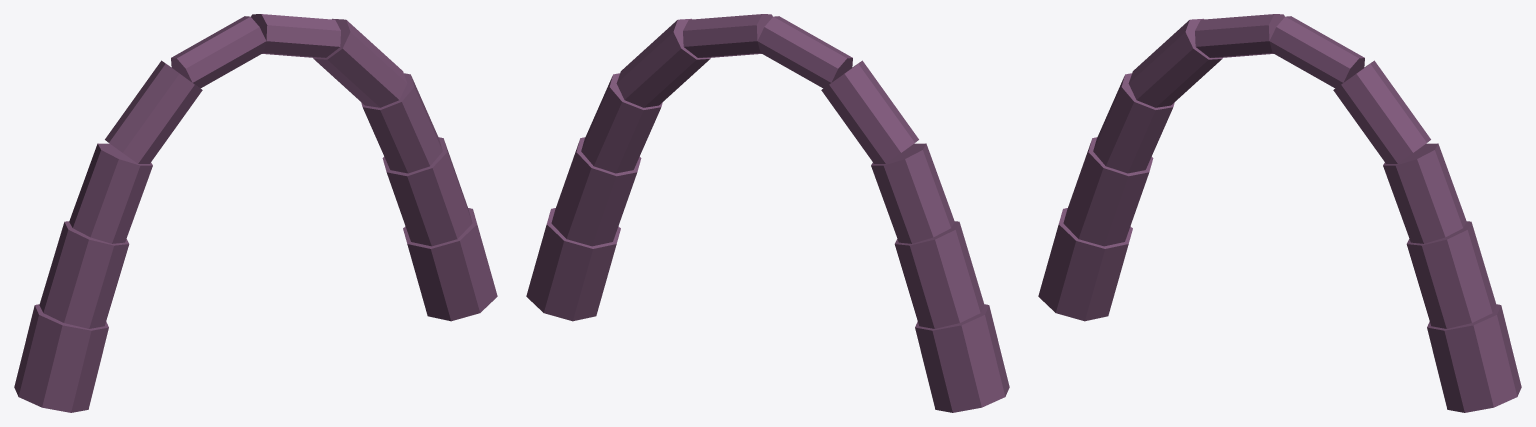
The model's file is PirateCove_KrakenArch_Simple.glb.
3 renders of one model, left to right at view 1: azimuth 30°, elevation 25°; view 2: azimuth 150°, elevation 25°; view 3: azimuth 330°, elevation 25°, orthographic.
Visible parts, largest first — view 1: PirateCove_KrakenArch_Simple; view 2: PirateCove_KrakenArch_Simple; view 3: PirateCove_KrakenArch_Simple.
Part boxes in pixels (<box>): PirateCove_KrakenArch_Simple: <box>14,14,497,412</box>; PirateCove_KrakenArch_Simple: <box>526,14,1009,412</box>; PirateCove_KrakenArch_Simple: <box>1038,14,1521,412</box>.
Bounding box in the file's own units: 4.18 × 2.88 × 0.6.
